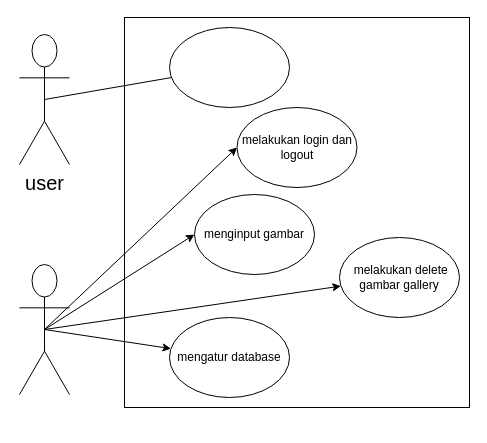
Some shapes in this 487 by 443 pixel diagram are drawn without their labels. The centre of each missing label's shape, as x and y in pixels:
"admin" goes at pixel 44 329.
"melihat halaman gallery" goes at pixel 229 67.
